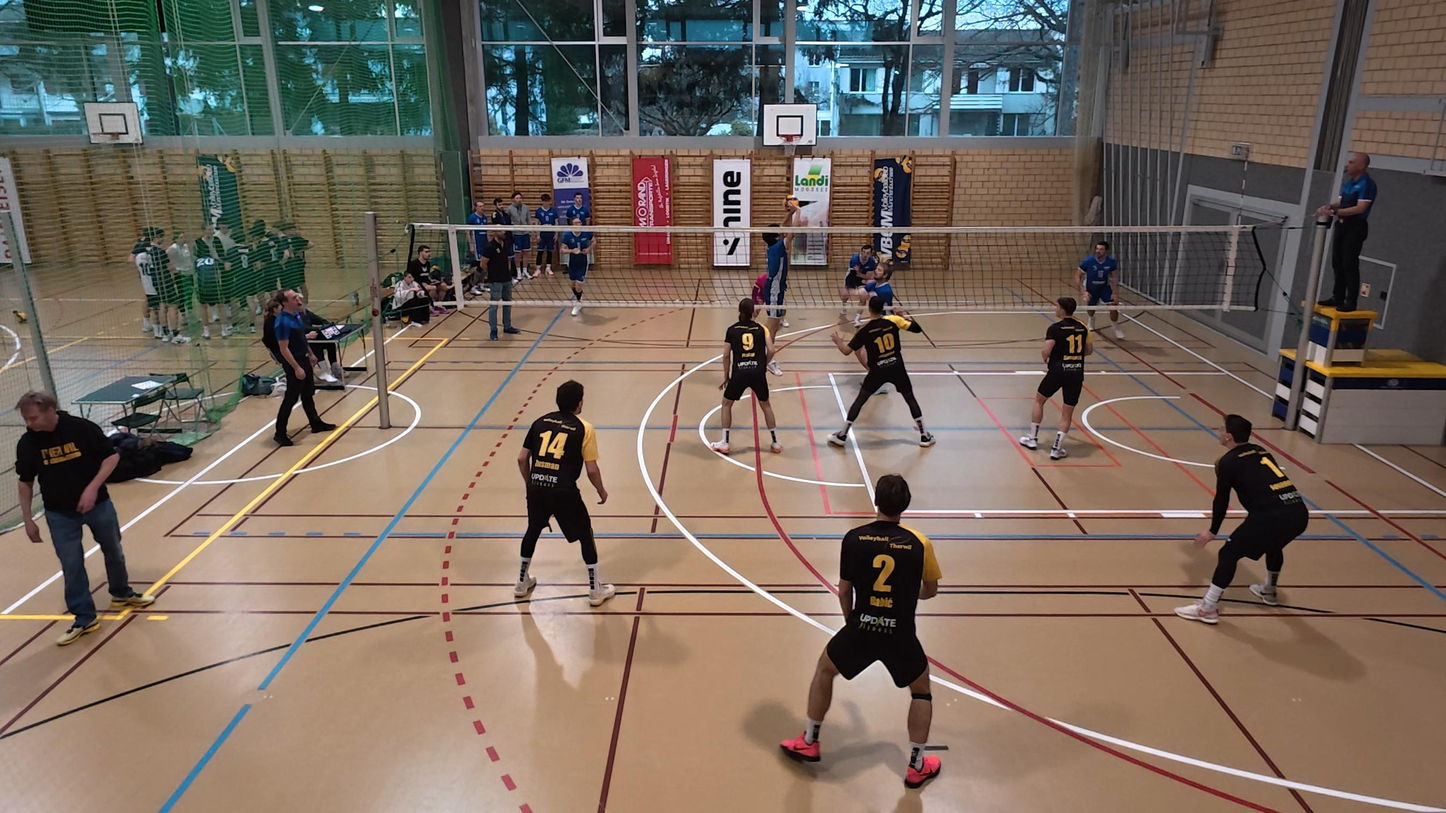alzata: (759, 201, 809, 335)
